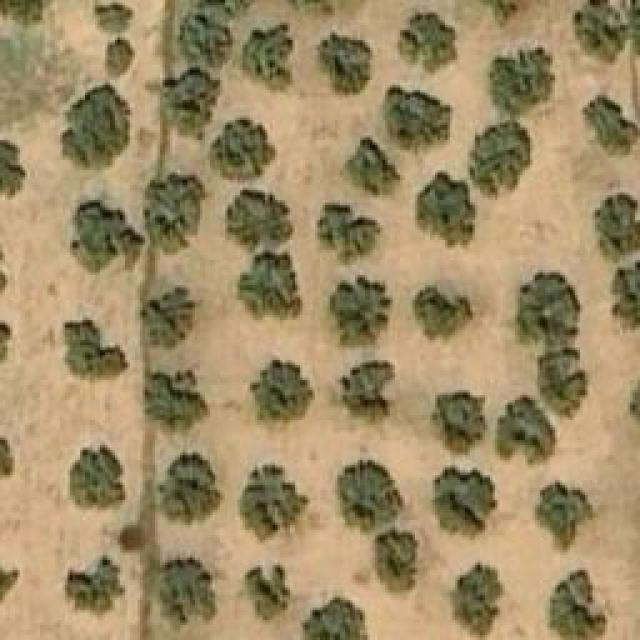Tree: (65, 85, 133, 168), (70, 200, 145, 275), (513, 268, 578, 353), (240, 463, 308, 543), (415, 173, 478, 253), (433, 465, 498, 540), (238, 253, 303, 328), (385, 85, 453, 155), (328, 275, 391, 348), (153, 558, 216, 631), (208, 118, 278, 183), (140, 172, 195, 250), (340, 460, 403, 528), (225, 190, 293, 253), (163, 455, 223, 525), (340, 137, 400, 205), (547, 570, 605, 640), (243, 23, 298, 96), (318, 203, 381, 266), (463, 125, 523, 190), (315, 35, 375, 98), (250, 360, 313, 420), (70, 445, 128, 510), (453, 563, 503, 638), (538, 480, 593, 548), (430, 390, 488, 453), (398, 13, 458, 73), (153, 370, 208, 435), (582, 95, 640, 155), (65, 557, 125, 615), (492, 403, 550, 463), (65, 320, 128, 375), (343, 363, 398, 426), (493, 55, 546, 118), (413, 285, 473, 340), (373, 530, 423, 595), (160, 72, 215, 130), (595, 193, 640, 263), (150, 285, 195, 350), (180, 0, 227, 62), (575, 0, 625, 58), (300, 597, 367, 640), (535, 353, 580, 413), (245, 565, 290, 620), (612, 263, 640, 336), (0, 137, 28, 195), (95, 0, 132, 32), (0, 0, 40, 28), (108, 40, 131, 75)
